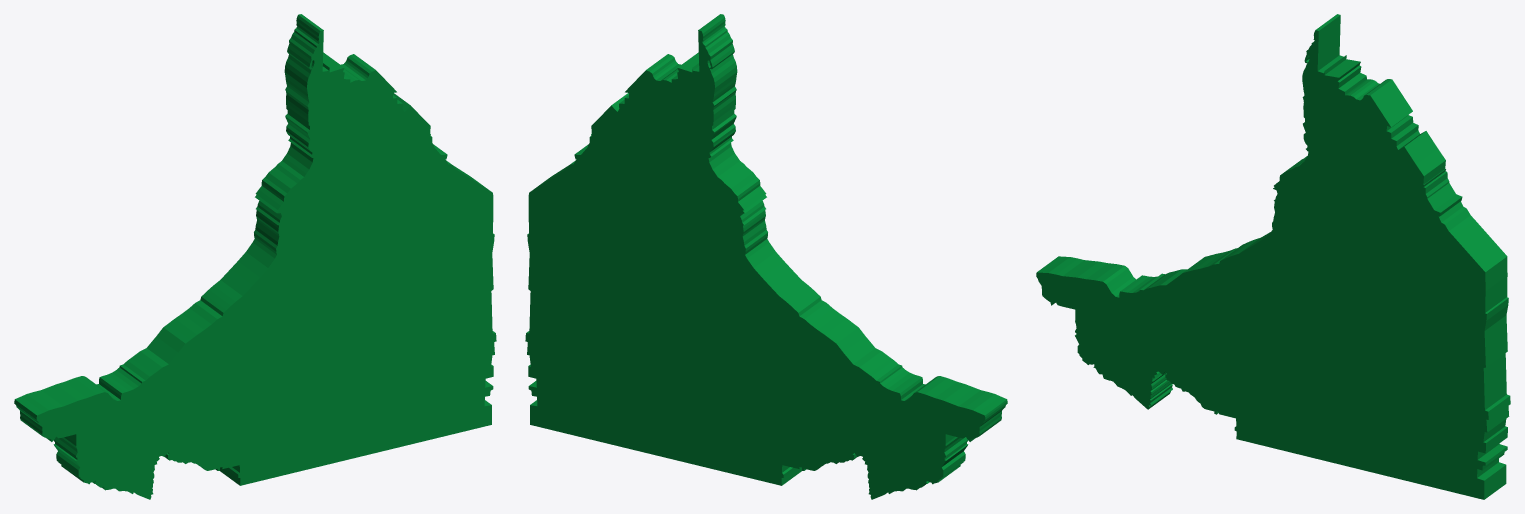
Rendered from campeche.glb.
3 renders of one model, left to right at view 1: azimuth 30°, elevation 25°; view 2: azimuth 150°, elevation 25°; view 3: azimuth 330°, elevation 25°, orthographic.
Parts seen in each view (by area): view 1: Plano; view 2: Plano; view 3: Plano.
Part boxes in pixels (<box>): Plano: <box>14,14,496,499</box>; Plano: <box>525,14,1007,499</box>; Plano: <box>1036,14,1510,499</box>.
Bounding box in the file's own units: 1.39 × 1.25 × 0.1163.
1 material, 1 textured.
